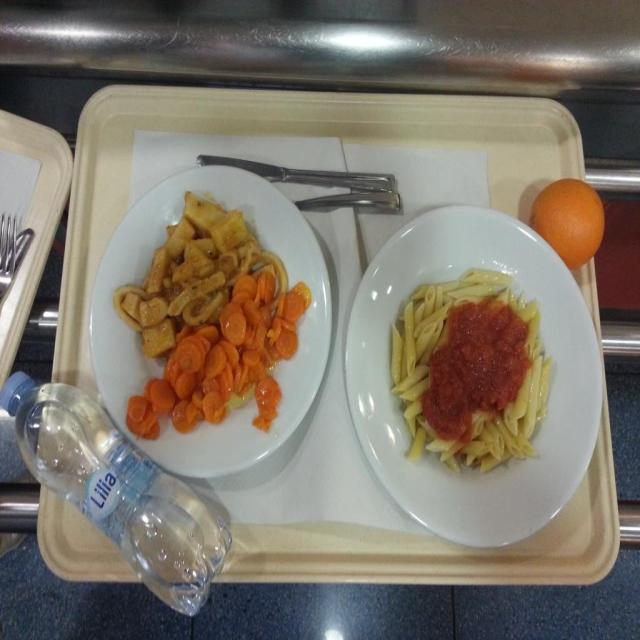plate: (343, 196, 603, 549), (95, 164, 331, 476), (526, 178, 606, 267)
